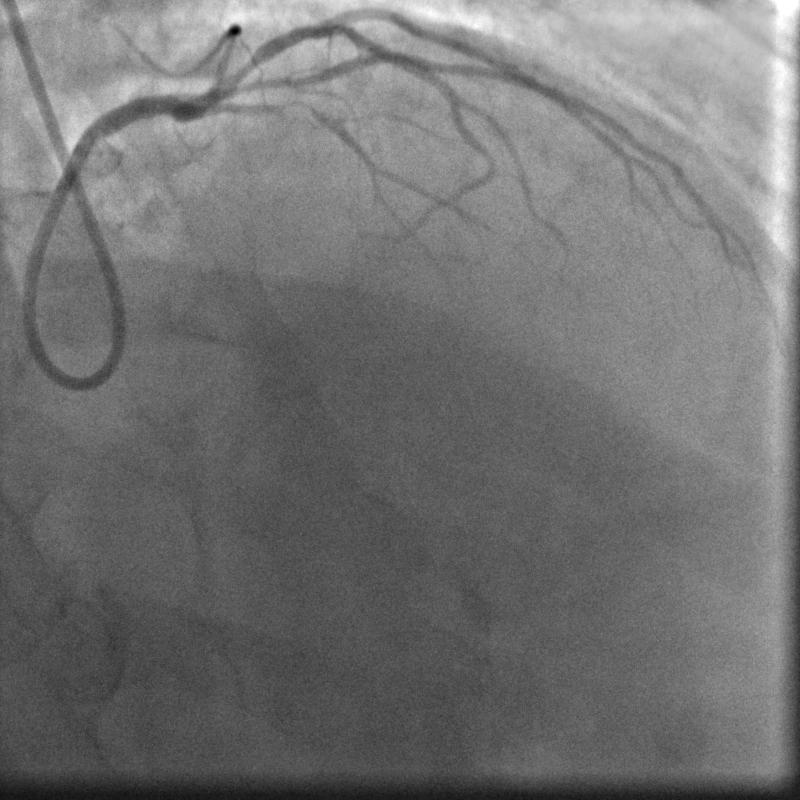Stenosis: (221, 54, 262, 86)
